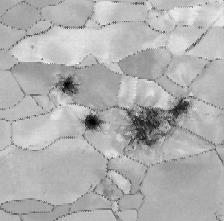good_void: (123, 96, 193, 150), (56, 75, 85, 102), (79, 109, 107, 134), (99, 176, 116, 200), (29, 43, 36, 52), (155, 14, 160, 20), (40, 56, 45, 62)
